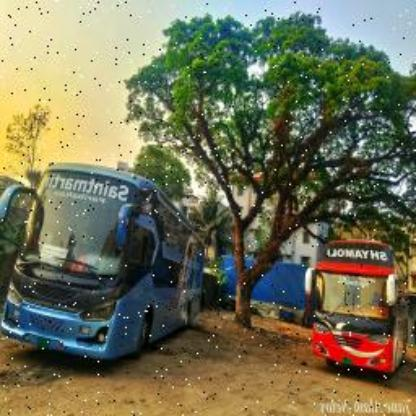bus: (0, 160, 208, 360), (304, 235, 408, 369)
